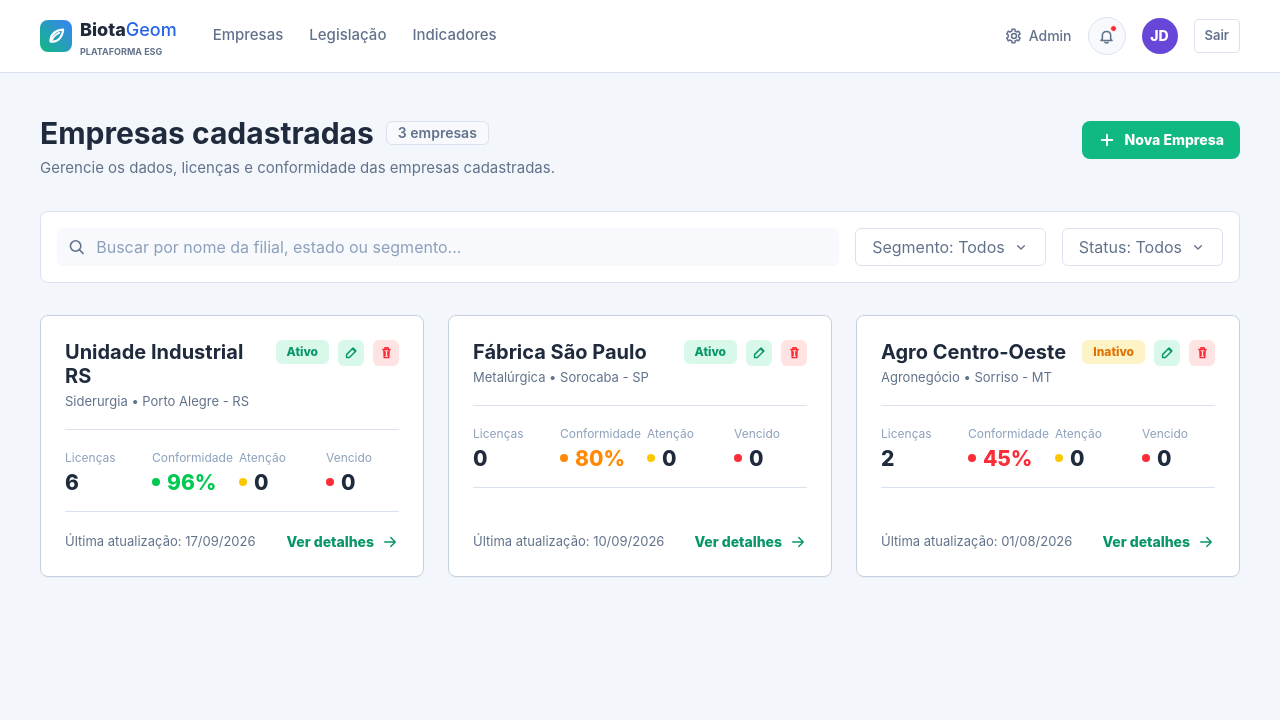
it: AdminCompaniesPage › shows a fallback when editable company details fail unexpectedly
What coordinates should you click on to do the following:
click the button named "Editar Unidade Industrial RS"
I would click on:
 (351, 353)
Its box is [338,340,364,366].
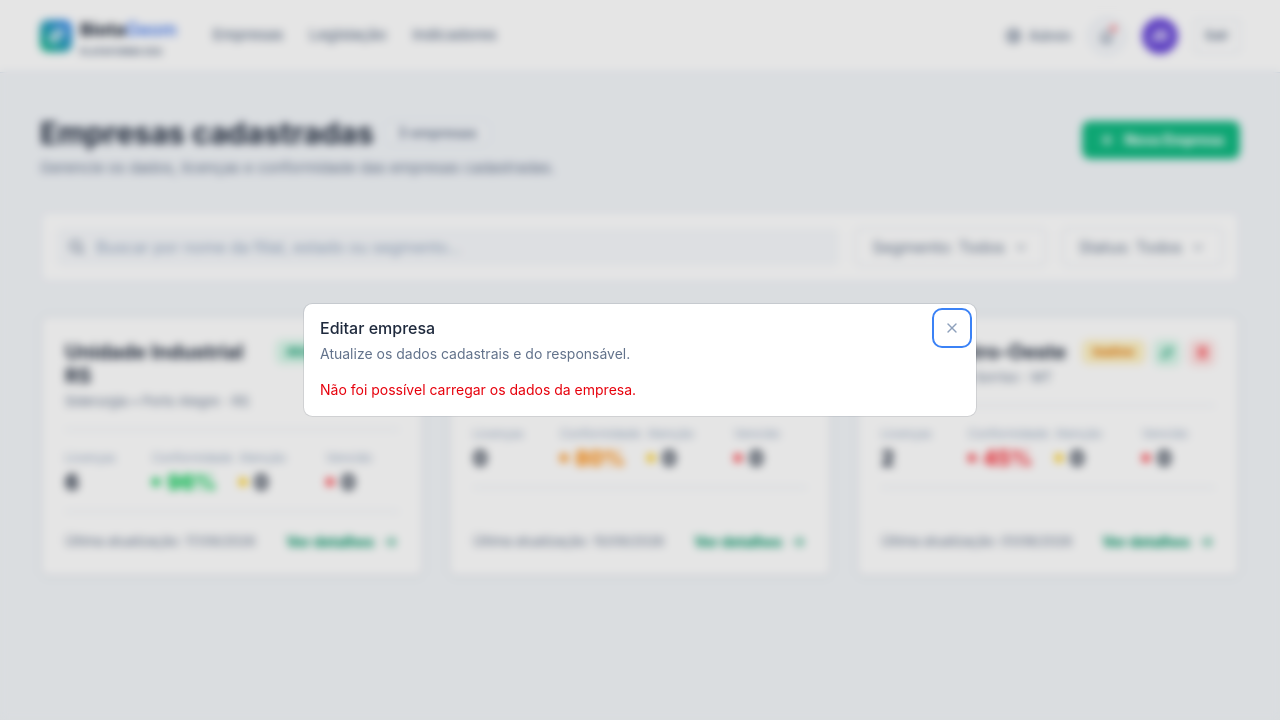
Result: the message reads "Não foi possível carregar os dados da empresa." at [320,381,636,398]
